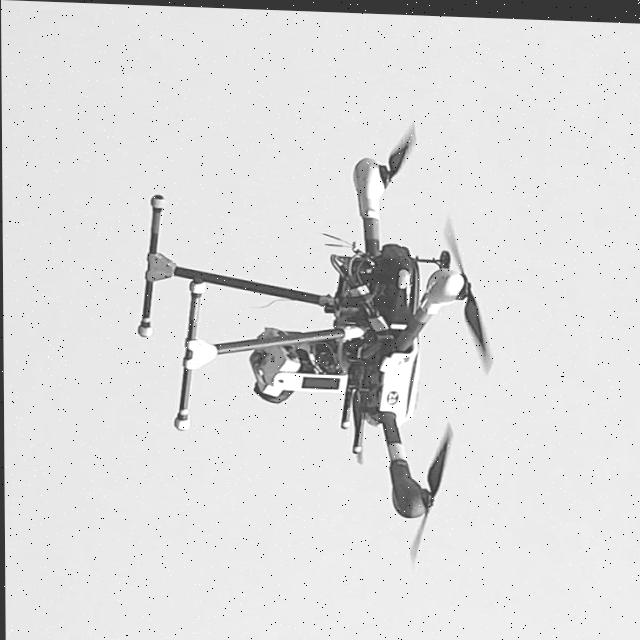drone: (289, 99, 479, 561)
